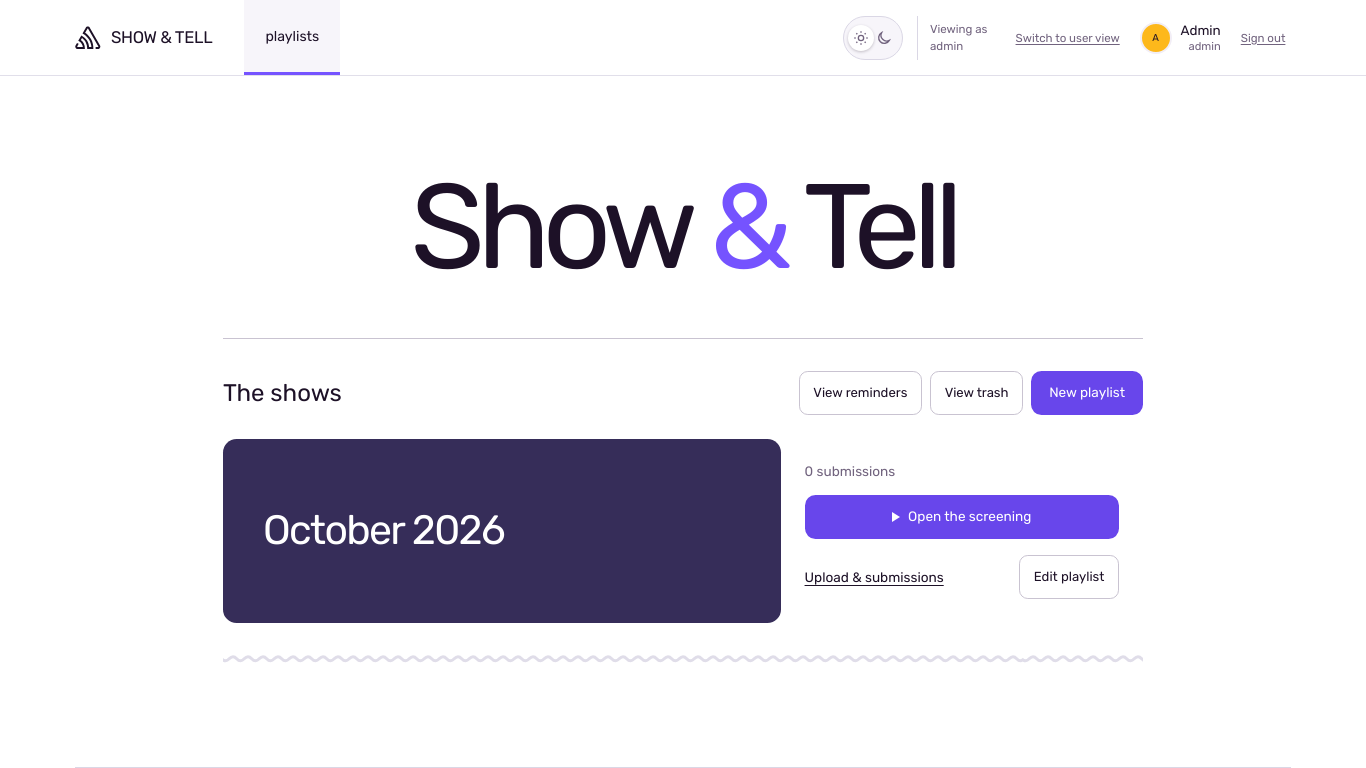
App › keeps playlist administration separate in admin view
Click the link "Upload & submissions" at (874, 577), box [805,569,944,585]
(page scrolled)
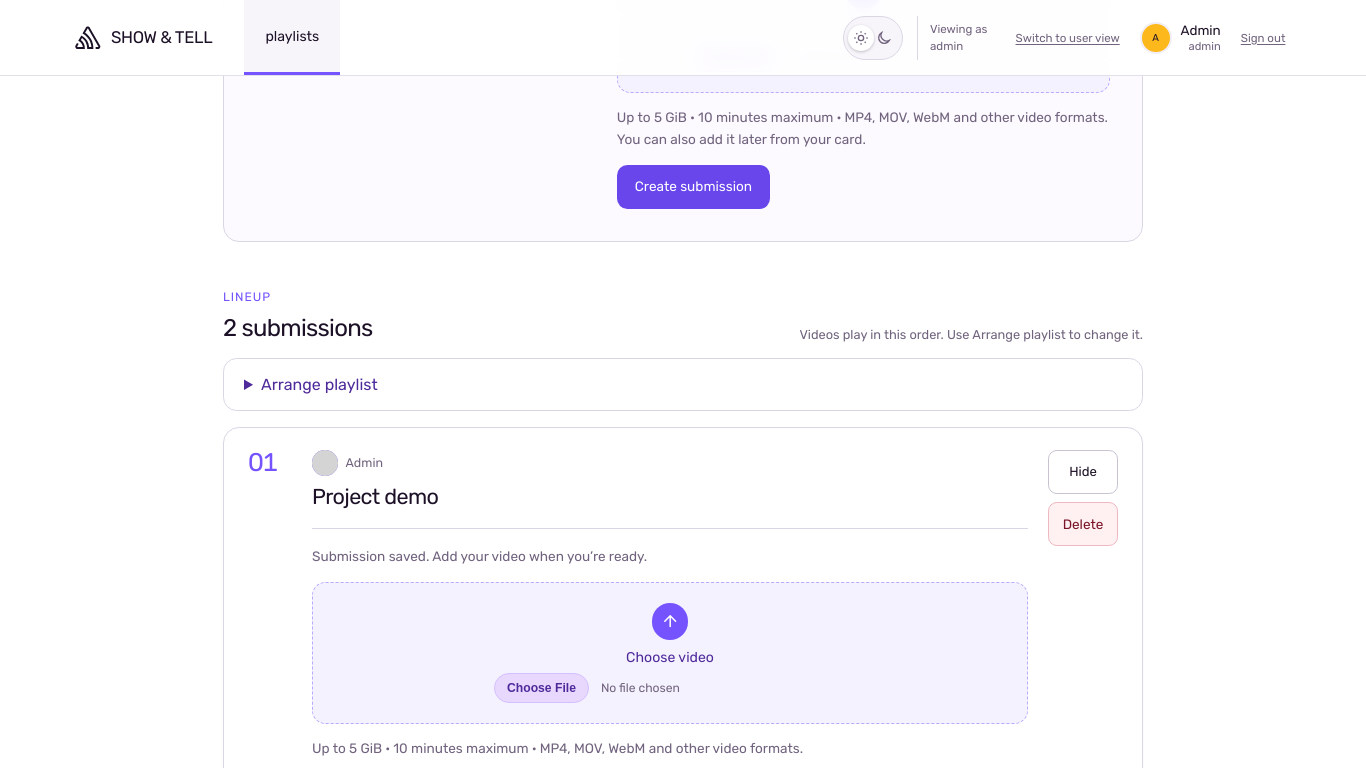
Check: the link "Open the screening" is not shown
Check: the heading "Arrange playlist" is shown, box [261,375,378,394]
